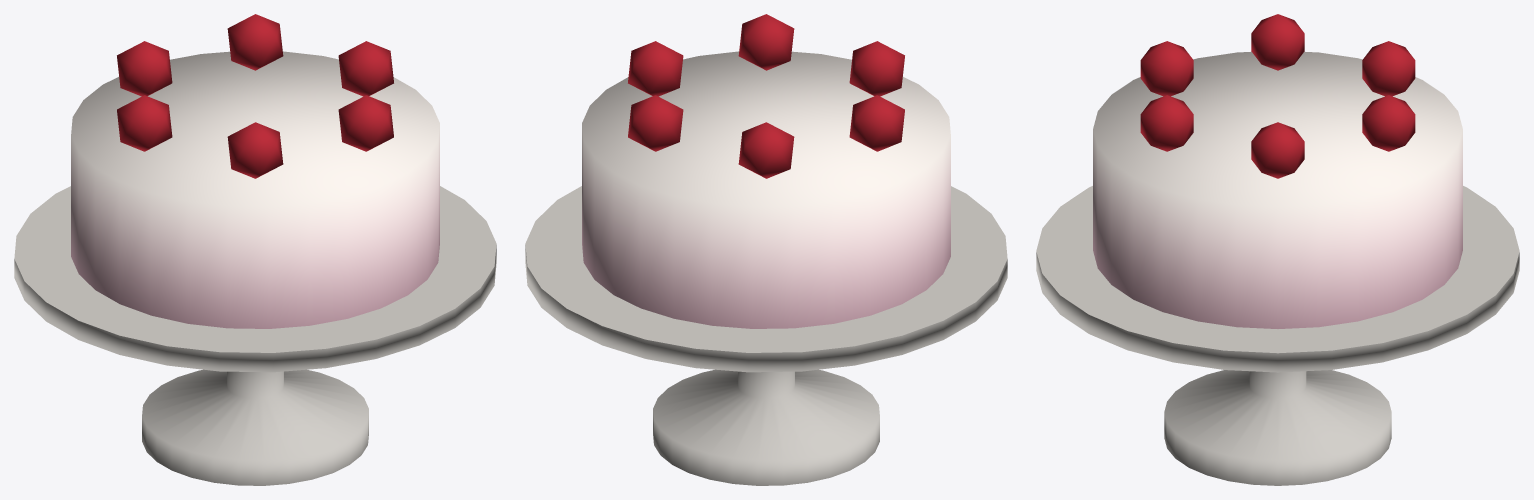
File: furn_cake_stand.glb
The picture shows the model from 3 angles, left to right: view 1: azimuth 30°, elevation 25°; view 2: azimuth 150°, elevation 25°; view 3: azimuth 270°, elevation 25°; orthographic projection.
Parts seen in each view (by area): view 1: furn_cake_stand_main, furn_cake_stand_gloss; view 2: furn_cake_stand_main, furn_cake_stand_gloss; view 3: furn_cake_stand_main, furn_cake_stand_gloss.
Part boxes in pixels (left/top/right/bottom): furn_cake_stand_main: left=71, top=51, right=439, bottom=328; furn_cake_stand_gloss: left=14, top=14, right=496, bottom=485; furn_cake_stand_main: left=582, top=51, right=950, bottom=328; furn_cake_stand_gloss: left=525, top=14, right=1007, bottom=485; furn_cake_stand_main: left=1093, top=51, right=1462, bottom=328; furn_cake_stand_gloss: left=1036, top=14, right=1519, bottom=485.
Bounding box in the file's own units: 0.34 × 0.287 × 0.34.
